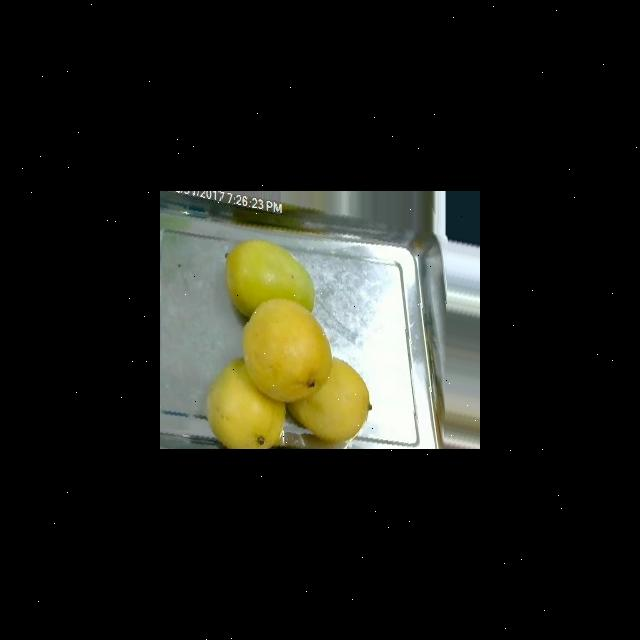Mango: (242, 297, 332, 402), (287, 356, 371, 442), (206, 357, 285, 448), (225, 238, 315, 317)
